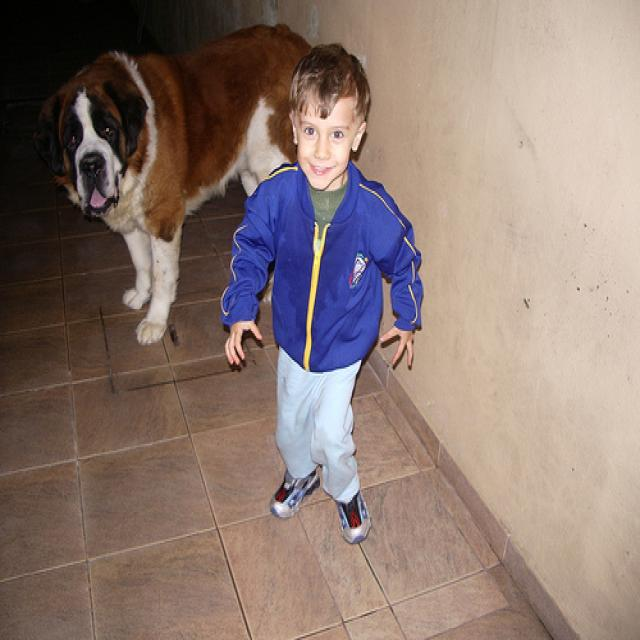dog-saint_bernard: (26, 14, 321, 358)
